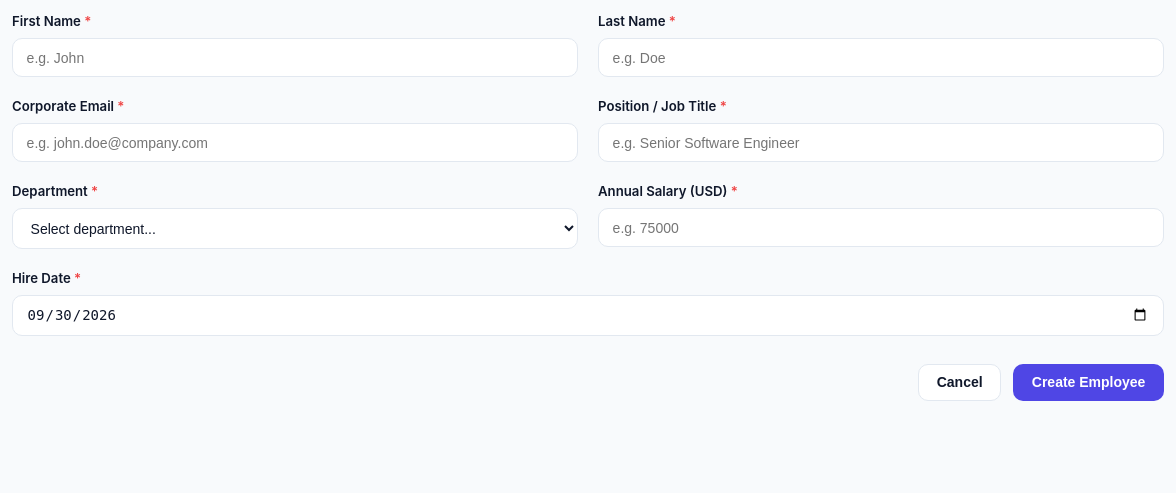
Scenario: EmployeeForm Component › validates email format
Type "not-an-email" into the field labelled "Corporate Email *" at point(295, 143), box [12,123,578,162]
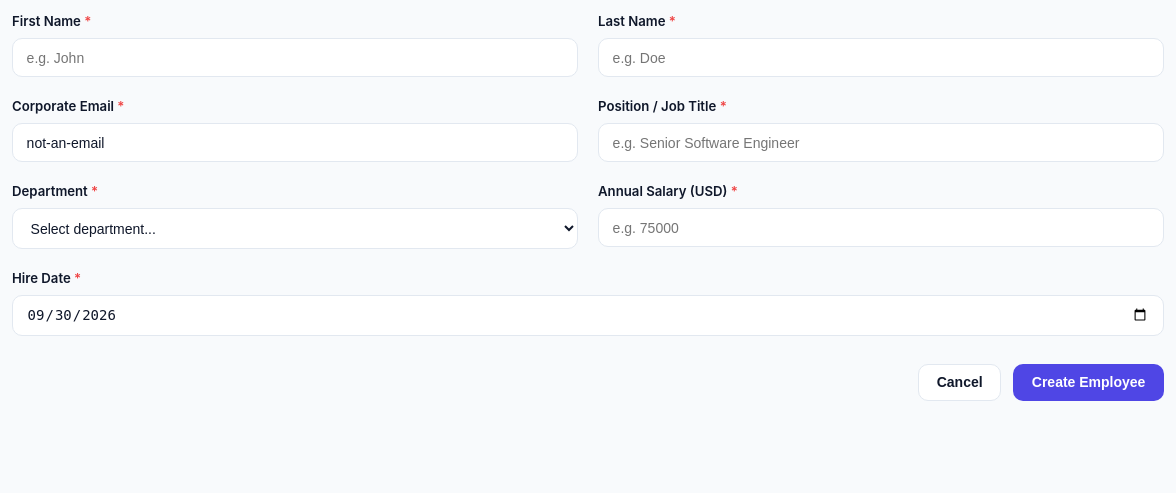
Click the button "Create Employee" at point(1089, 382), box [1013,364,1164,401]
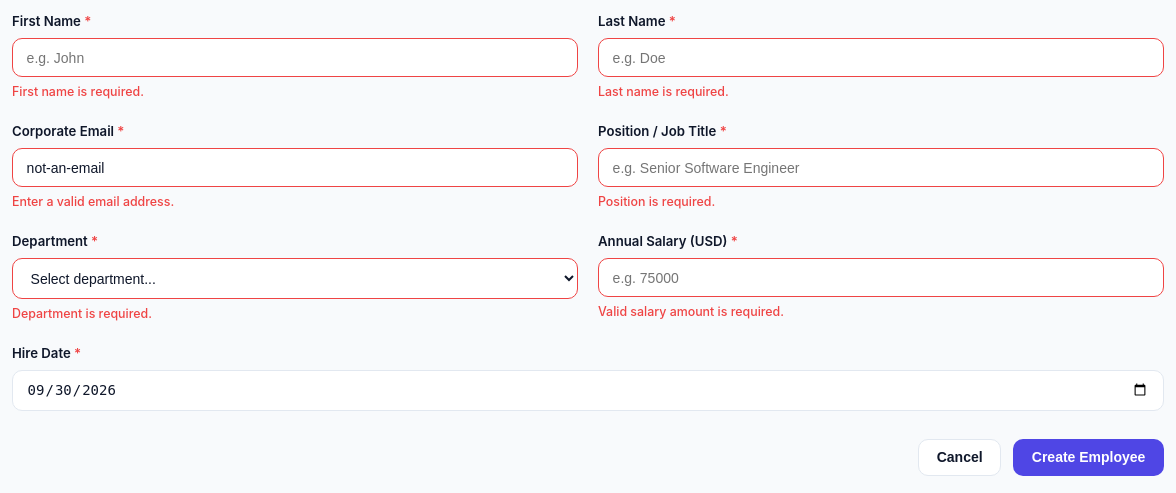
expect the text "Enter a valid email address." is shown: met, box [12,194,174,209]
